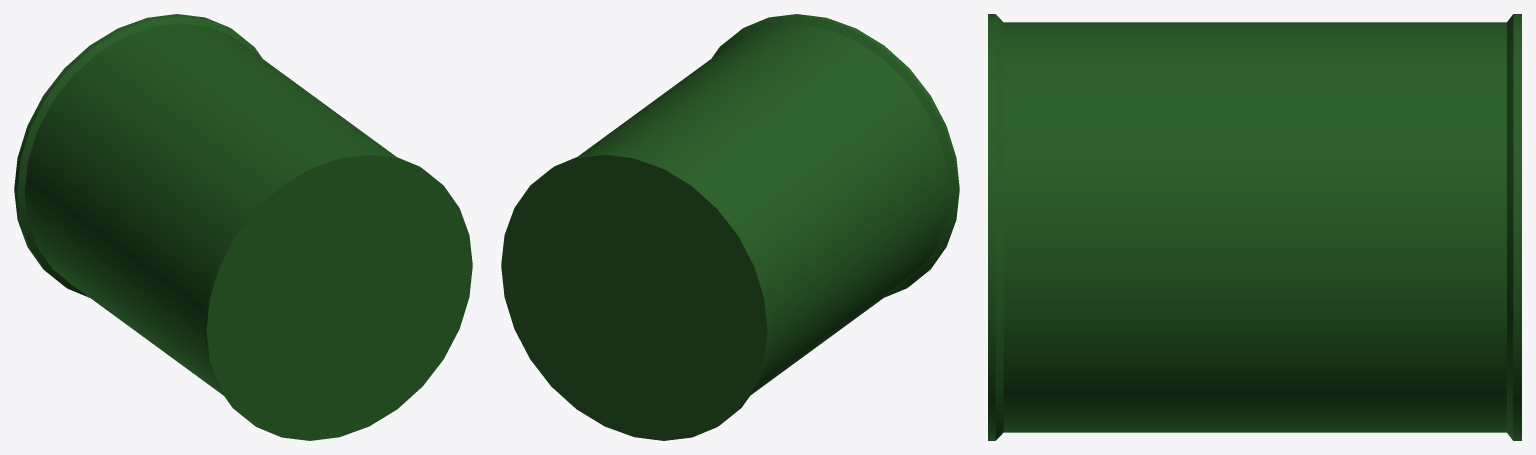
File: Pipe_Straight_16cm.fbx
3 views of the same model, side by side, from view 1: azimuth 30°, elevation 25°; view 2: azimuth 150°, elevation 25°; view 3: azimuth 270°, elevation 25° (orthographic). The views are drawn at different scales.
Parts seen in each view (by area): view 1: Pipe_Straight_16cm; view 2: Pipe_Straight_16cm; view 3: Pipe_Straight_16cm.
Part boxes in pixels (x1,y1,x2,y2): Pipe_Straight_16cm: (14, 14, 472, 440); Pipe_Straight_16cm: (501, 14, 959, 440); Pipe_Straight_16cm: (988, 14, 1521, 440).
Bounding box in the file's own units: 16 × 16 × 20.
